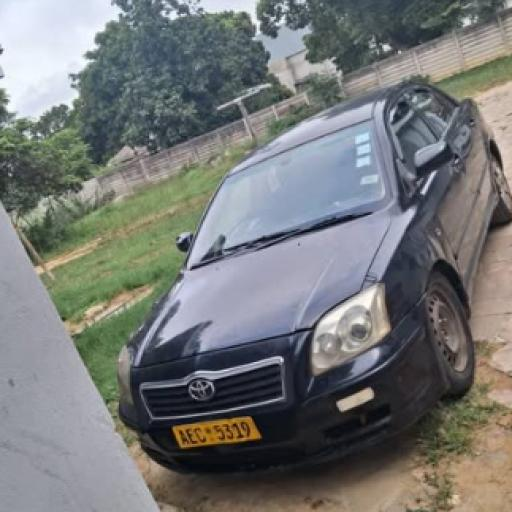number-plates: (163, 417, 255, 445)
